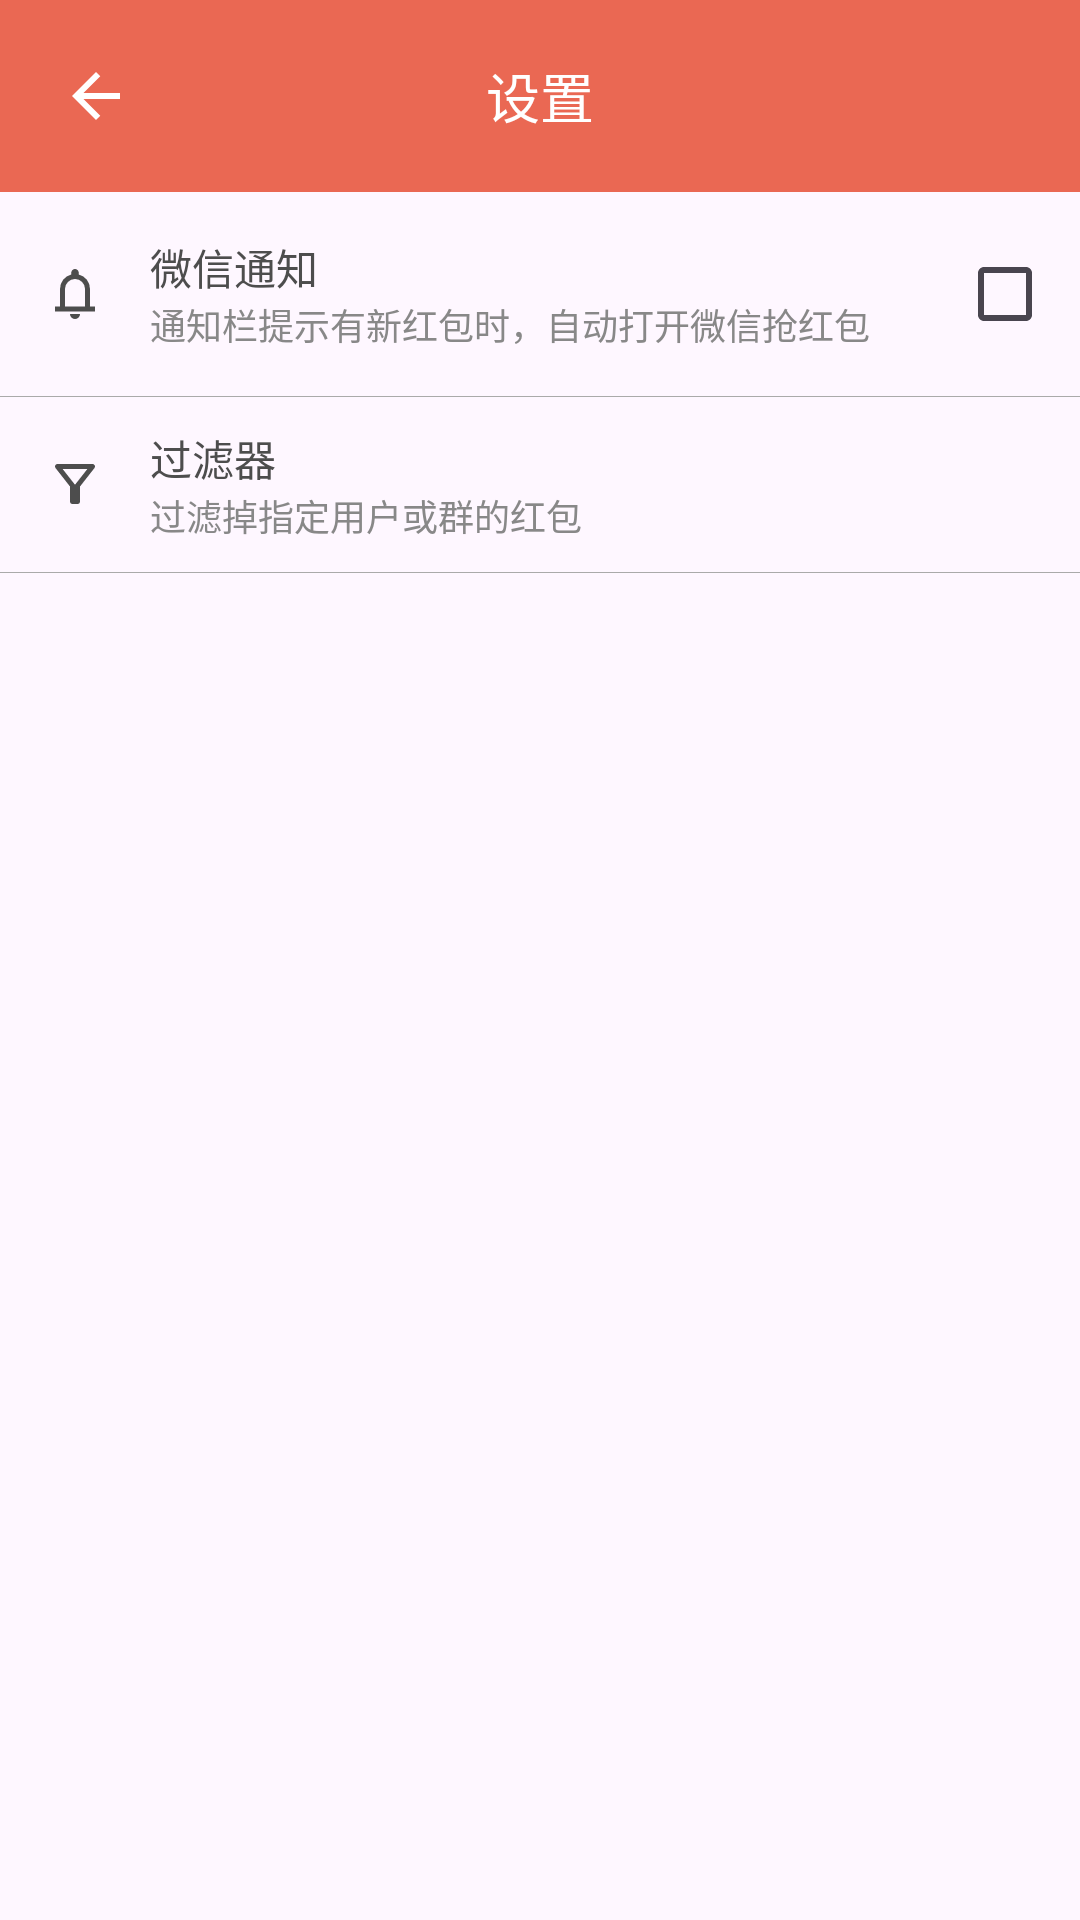

Screen size 1080px x 1920px. Icon name, then its box in pixels as region(x1, y1, x2, y2):
back: region(72, 72, 120, 120)
filter: region(55, 464, 95, 504)
notification: region(55, 269, 95, 319)
